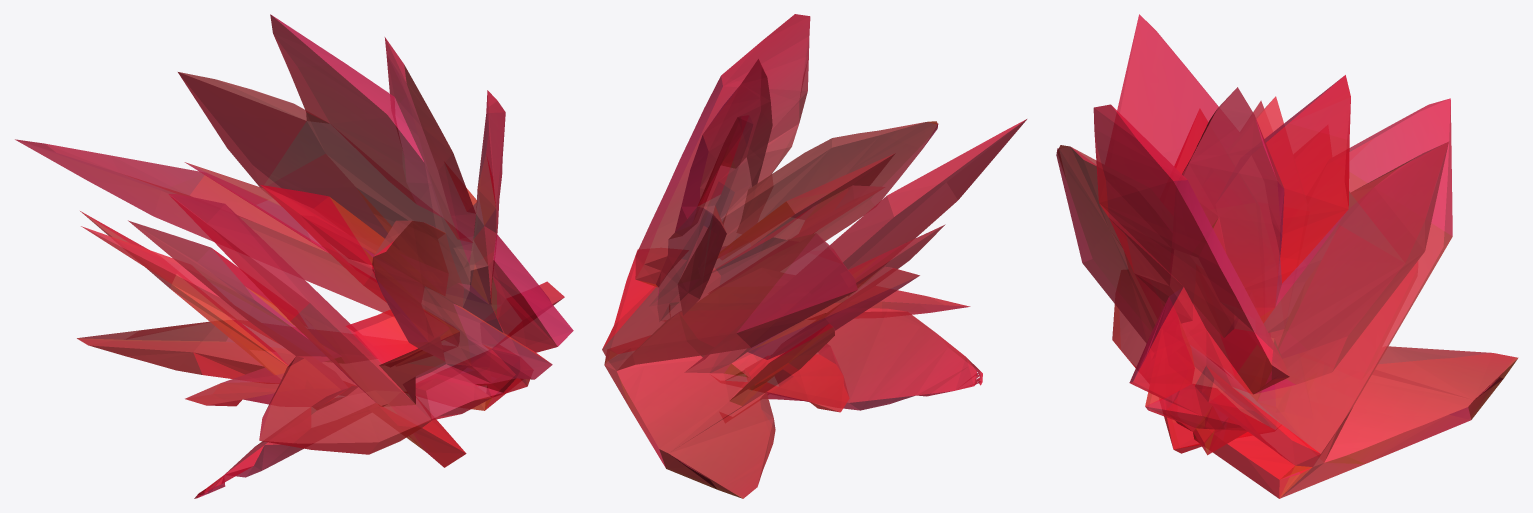
Rendered from DragonSpawn_Extractable1.glb.
3 renders of one model, left to right at view 1: azimuth 30°, elevation 25°; view 2: azimuth 150°, elevation 25°; view 3: azimuth 270°, elevation 25°, orthographic. The views are drawn at different scales.
Parts seen in each view (by area): view 1: Extractable1; view 2: Extractable1; view 3: Extractable1.
Part boxes in pixels (x1,y1,x2,y2): Extractable1: (15,14,573,498); Extractable1: (602,14,1026,498); Extractable1: (1056,14,1518,498).
Bounding box in the file's own units: 1.32 × 1.19 × 1.4.
1 material, 1 textured.
